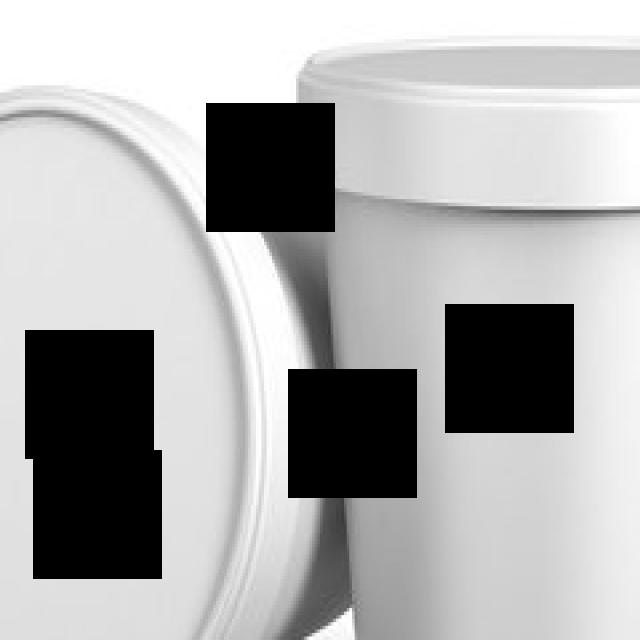yoghurt: (296, 32, 640, 640), (0, 83, 351, 640)
